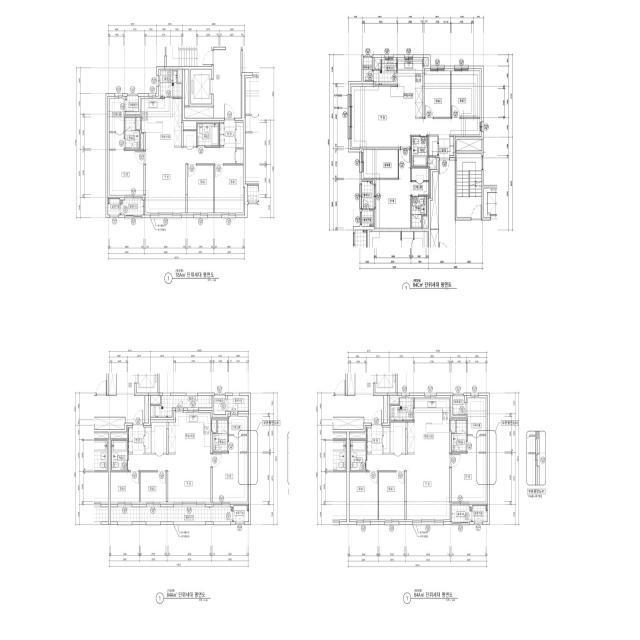space_balconi: (111, 507, 233, 522), (151, 396, 212, 417), (374, 60, 397, 85), (160, 71, 181, 97), (391, 398, 413, 421), (121, 198, 144, 215), (362, 181, 374, 209), (227, 396, 249, 411), (452, 505, 471, 522)
space_bedroom: (376, 150, 410, 228), (213, 453, 247, 502), (452, 453, 486, 502), (109, 151, 144, 195), (349, 472, 378, 520), (215, 165, 243, 213), (451, 71, 480, 117), (379, 472, 405, 520), (188, 165, 213, 213), (425, 71, 450, 117), (111, 472, 139, 502), (140, 472, 166, 502)
space_dressroom: (468, 398, 486, 452), (109, 99, 124, 149), (229, 416, 247, 452), (411, 168, 429, 195)
space_elevator: (191, 69, 212, 104)
space_elevator_hall: (214, 50, 241, 118)
space_front: (128, 425, 144, 454), (367, 425, 383, 453), (220, 119, 235, 147), (439, 135, 454, 158)
space_kitchen: (407, 398, 450, 453), (141, 98, 181, 146), (168, 413, 211, 453), (398, 60, 423, 117)
space_living_room: (352, 87, 480, 147), (146, 146, 235, 213), (367, 453, 450, 520), (128, 454, 211, 502)
space_multipurpose_space: (364, 150, 398, 178)
space_other: (430, 172, 439, 229), (152, 422, 166, 453), (391, 422, 405, 453), (184, 107, 213, 118), (457, 139, 482, 151), (453, 396, 466, 415), (214, 396, 226, 415), (125, 96, 138, 112), (363, 58, 372, 81), (183, 131, 196, 146), (184, 69, 189, 105), (236, 123, 243, 148), (429, 136, 437, 156), (145, 428, 151, 453), (384, 428, 390, 453), (145, 396, 149, 423), (236, 149, 243, 164), (349, 433, 366, 439), (111, 433, 127, 439), (428, 157, 436, 168), (384, 396, 387, 423), (151, 396, 160, 404), (212, 420, 217, 432), (375, 60, 381, 69), (390, 398, 399, 404), (423, 216, 427, 228), (136, 117, 140, 129), (451, 420, 455, 432), (141, 134, 144, 149), (178, 71, 182, 82), (424, 59, 427, 66)
space_outdoor_room: (234, 506, 249, 522), (472, 506, 487, 522), (108, 199, 120, 215), (362, 210, 373, 227)
space_staircase: (457, 154, 482, 217)
space_toilet: (350, 440, 366, 471), (197, 124, 219, 146), (213, 420, 228, 452), (125, 117, 140, 149), (411, 197, 426, 228), (412, 136, 427, 167), (112, 440, 127, 471), (452, 420, 466, 452)
